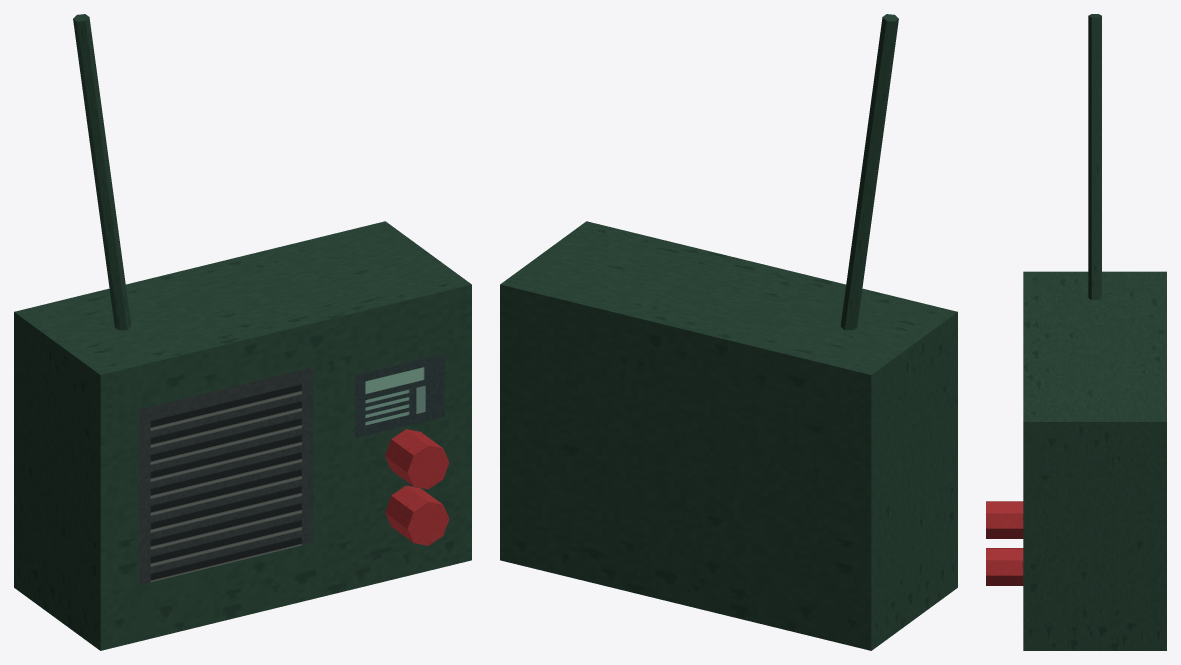
Rendered from Radio.fbx.
The picture shows the model from 3 angles, left to right: view 1: azimuth 30°, elevation 25°; view 2: azimuth 150°, elevation 25°; view 3: azimuth 270°, elevation 25°; orthographic projection. The views are drawn at different scales.
Parts seen in each view (by area): view 1: Radio; view 2: Radio; view 3: Radio.
Part boxes in pixels (<box>): Radio: <box>14,14,471,650</box>; Radio: <box>500,14,957,650</box>; Radio: <box>986,14,1166,650</box>.
Size of the model in its own units: 62 by 95.14 by 31.5.
